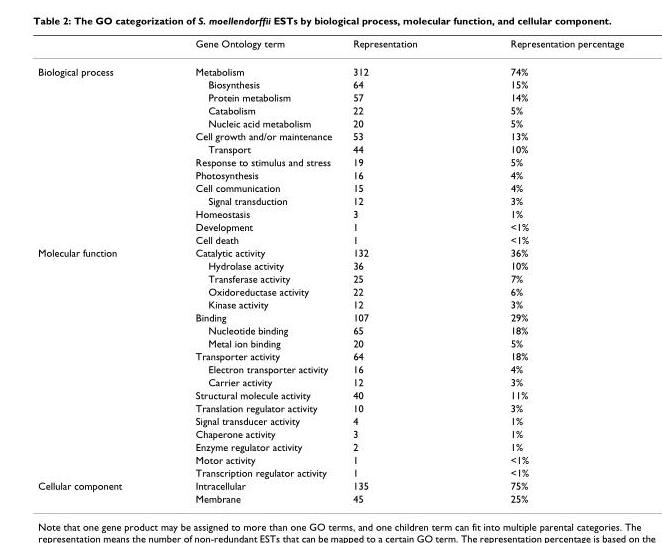table: (37, 37, 623, 504)
table column: (158, 37, 341, 504), (463, 37, 623, 504), (341, 37, 463, 504), (37, 37, 158, 504)
table column header: (37, 37, 623, 57)
table row: (37, 37, 623, 57), (37, 57, 623, 77), (37, 77, 623, 90), (37, 90, 623, 103), (37, 103, 623, 116), (37, 116, 623, 129), (37, 129, 623, 142), (37, 142, 623, 155), (37, 155, 623, 168), (37, 168, 623, 181), (37, 181, 623, 194), (37, 206, 623, 219), (37, 219, 623, 232), (37, 232, 623, 245), (37, 245, 623, 258), (37, 258, 623, 271), (37, 271, 623, 284), (37, 284, 623, 297), (37, 297, 623, 310), (37, 310, 623, 323), (37, 323, 623, 336), (37, 336, 623, 349), (37, 349, 623, 362), (37, 362, 623, 375), (37, 375, 623, 388), (37, 388, 623, 401), (37, 401, 623, 414), (37, 426, 623, 439), (37, 439, 623, 452), (37, 452, 623, 465), (37, 465, 623, 478), (37, 478, 623, 491), (37, 491, 623, 504), (37, 194, 623, 206), (37, 414, 623, 426)
table spanning cell: (37, 245, 158, 478), (37, 57, 158, 245), (37, 478, 158, 504)
